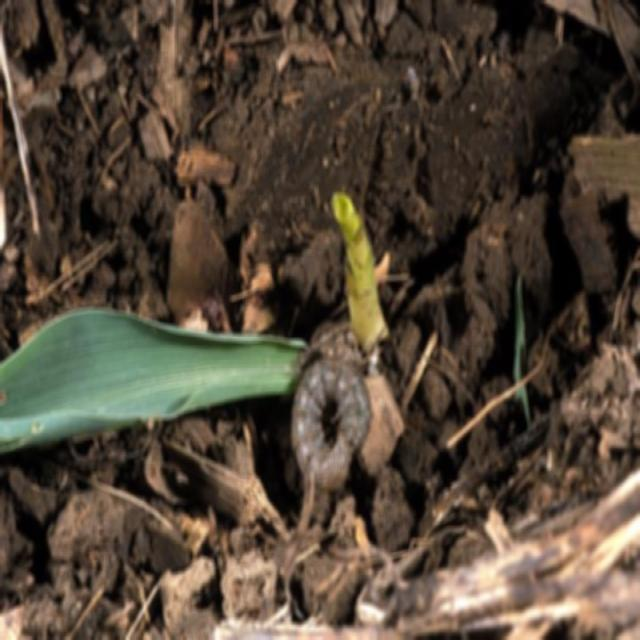black cutworm: (289, 351, 374, 490)
